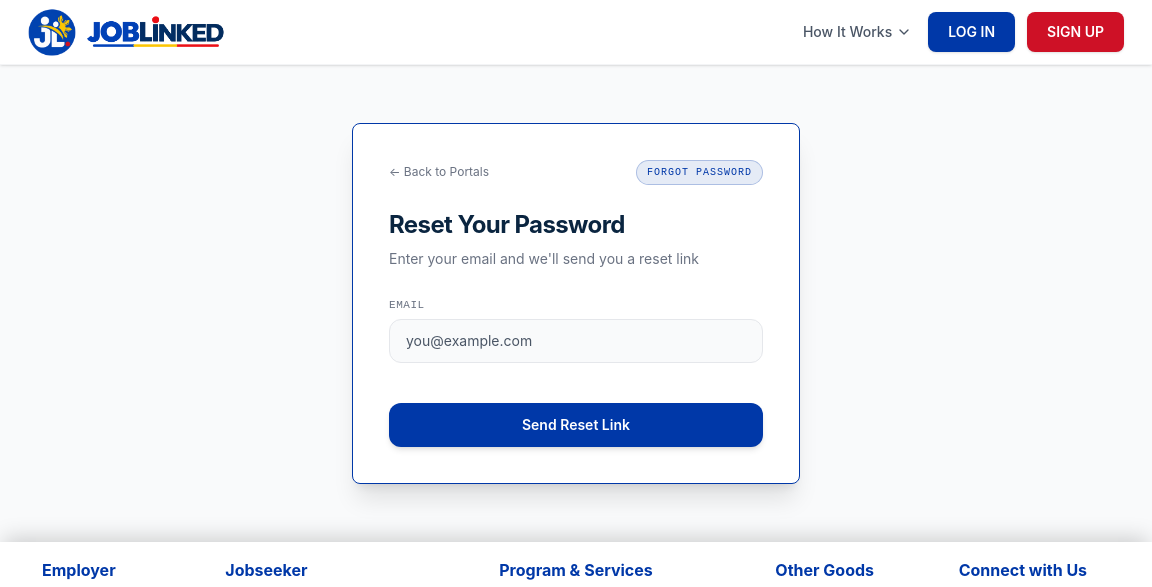
Scenario: ForgotPassword › shows an error when the reset request fails
Type "jane@example.com" into the field labelled "Email". click: (576, 341)
box: [389, 319, 763, 363]
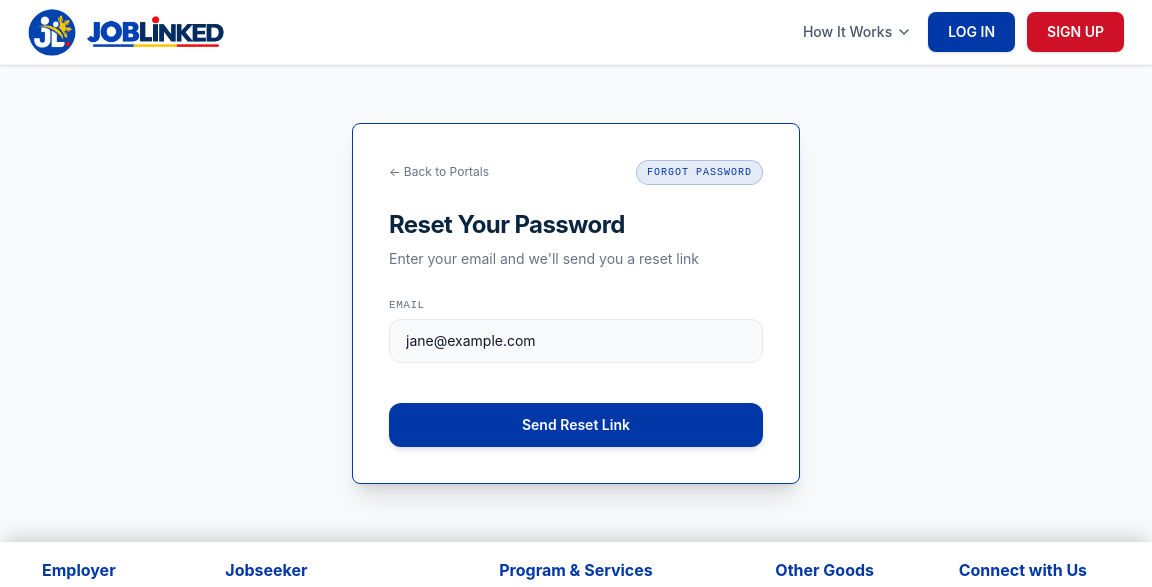
Click the button "Send Reset Link". click: click(576, 425)
box: [389, 403, 763, 447]
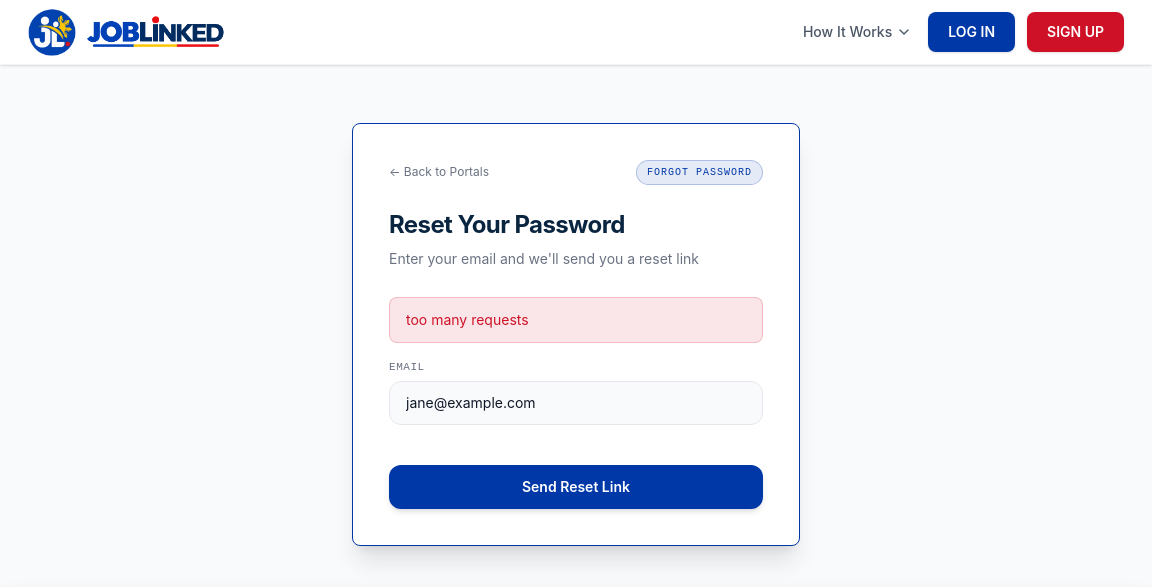
Check: the text "too many requests" is shown, box [389, 297, 763, 343]
